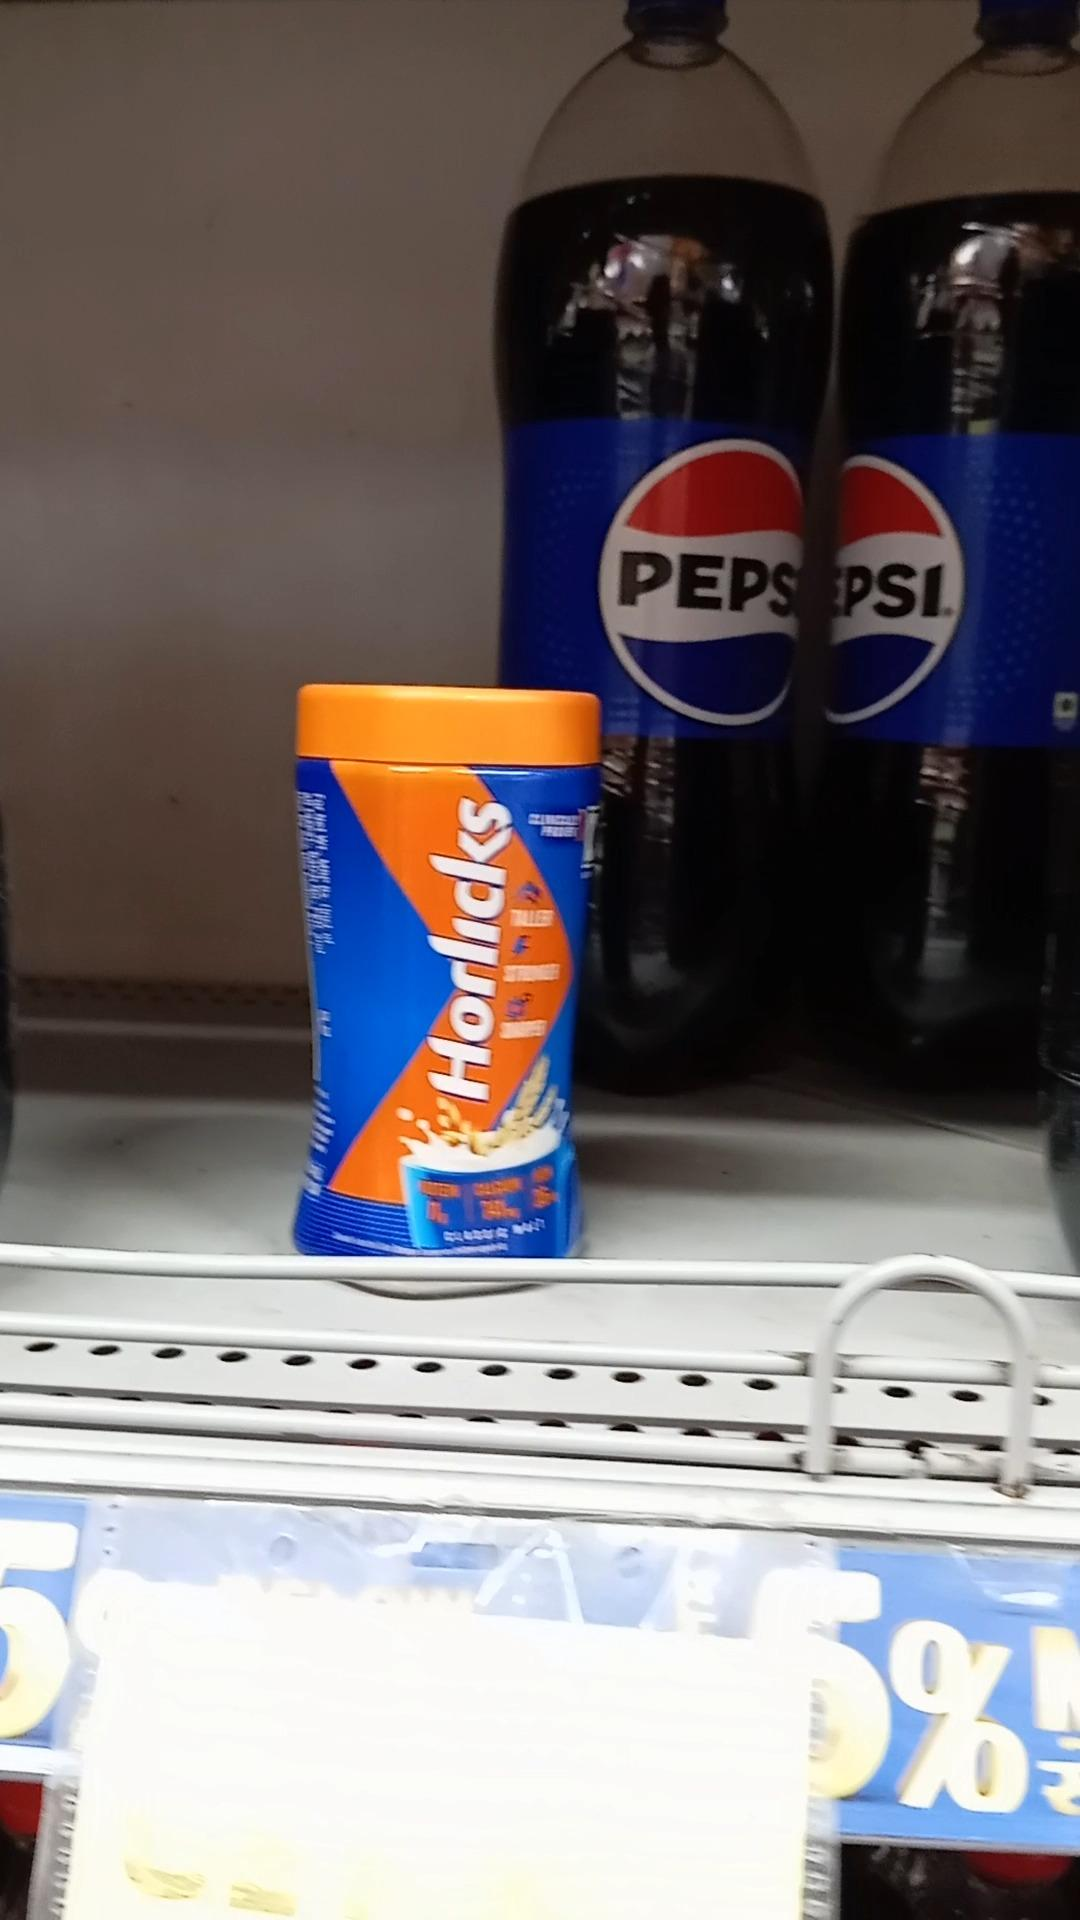HORLICK_CLASSIC_MALT_200_G_JAR: (291, 674, 600, 1286)
